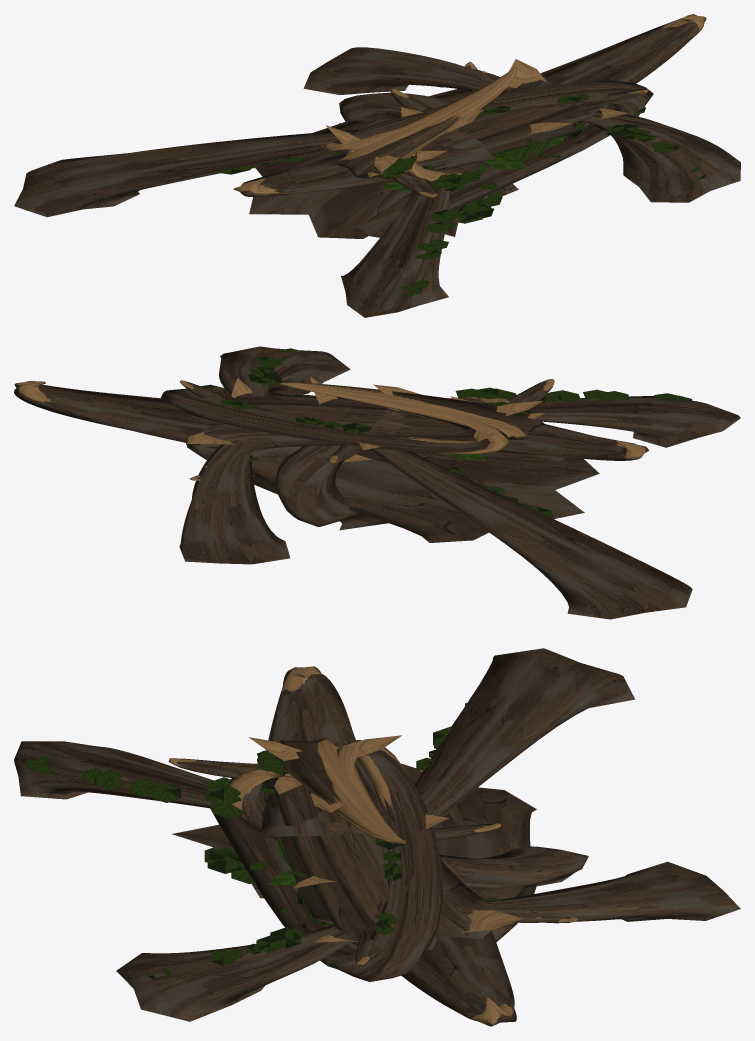
File: Raiz_Serpentina.glb
3 renders of one model, top to bottom at view 1: azimuth 30°, elevation 25°; view 2: azimuth 150°, elevation 25°; view 3: azimuth 270°, elevation 25°, orthographic. The views are drawn at different scales.
Parts seen in each view (by area): view 1: Raiz_Serpentina; view 2: Raiz_Serpentina; view 3: Raiz_Serpentina.
Boxes of the visible parts, <box> form: Raiz_Serpentina: <box>14,14,740,317</box>; Raiz_Serpentina: <box>14,346,740,619</box>; Raiz_Serpentina: <box>14,648,740,1026</box>.
Size of the model in its own units: 0.9066 by 0.0917 by 0.6556.
1 material, 1 textured.
